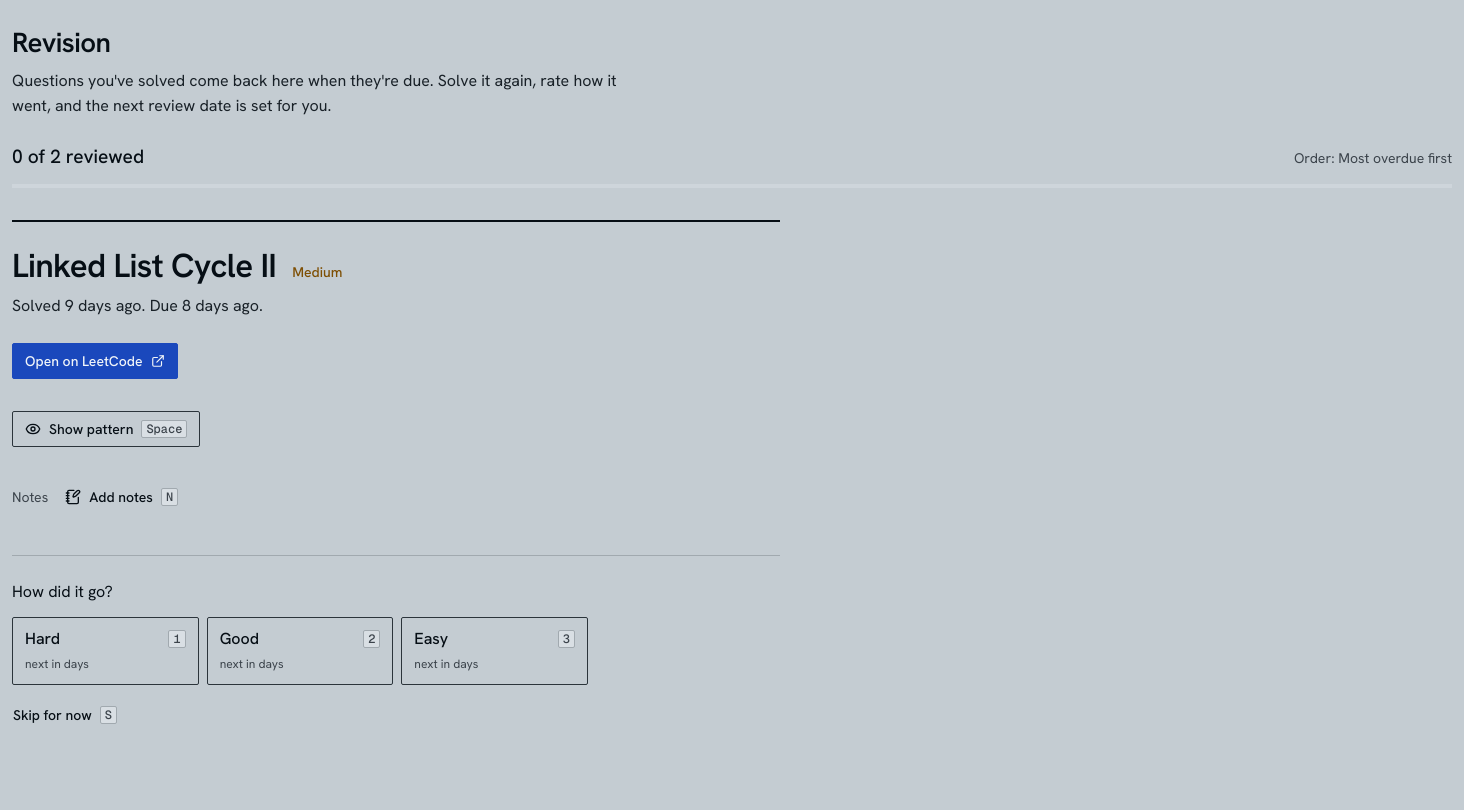
it: RevisionView › hides the pattern until it is revealed
Expected: the text "Two Pointers" is not shown
Click the button "Show pattern Space": {"x": 106, "y": 429} [12,411,200,447]
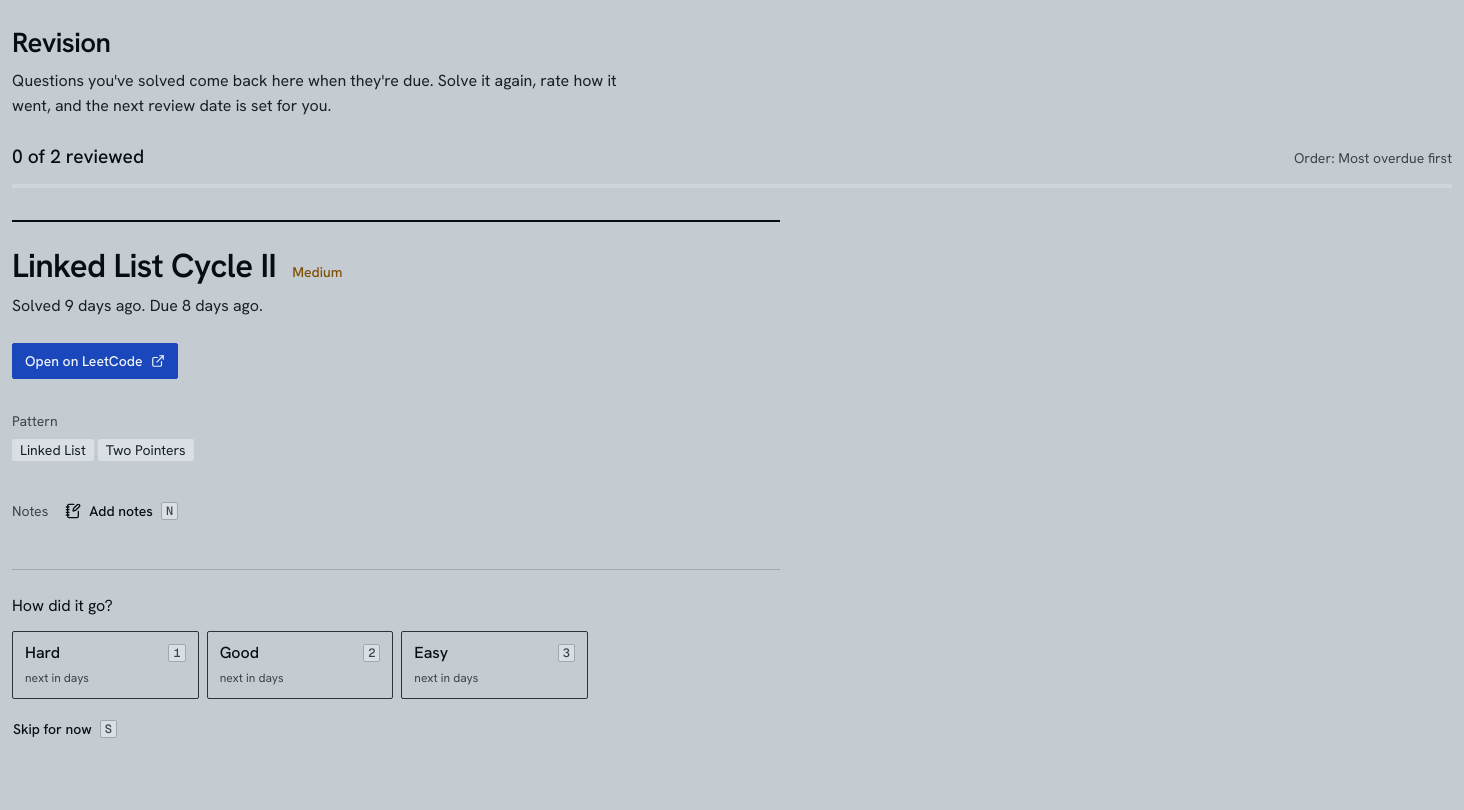
Expected: the text "Two Pointers" is shown, [98,439,194,461]
